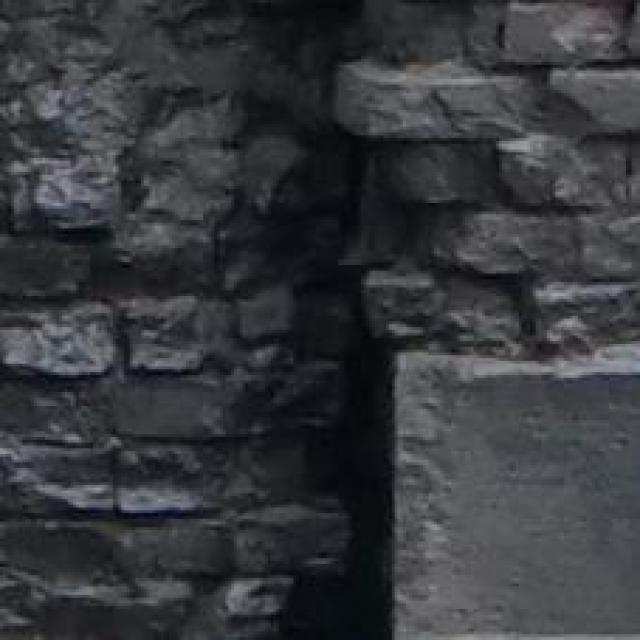Crack: (158, 0, 538, 640)
